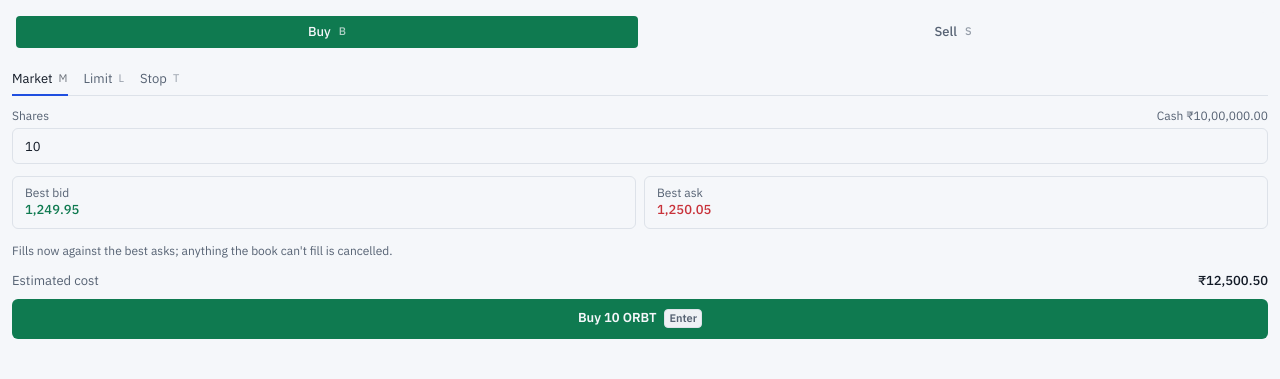
it: OrderTicket › clears the last order's outcome when the side changes
Click the button "Buy 10 ORBT Enter" at (640, 319), box [12, 299, 1268, 339]
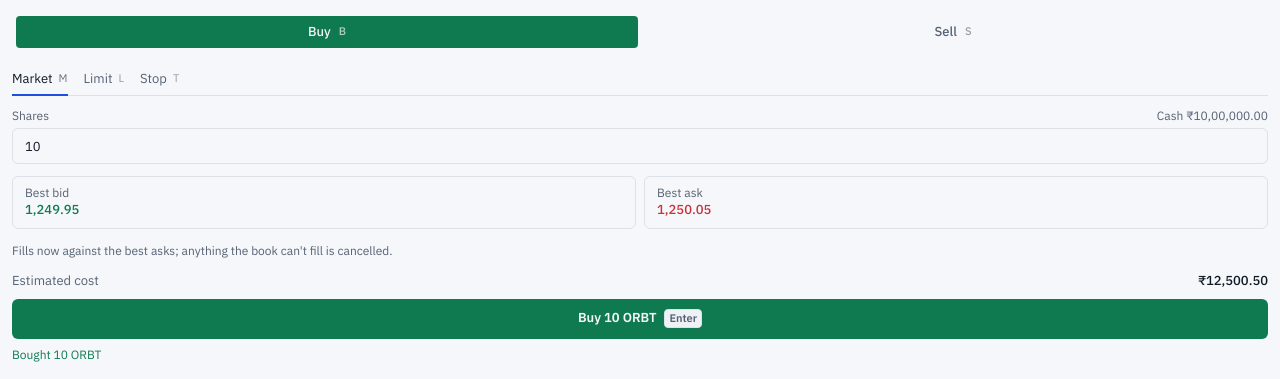
Result: the text "Bought 10 ORBT" is shown at [12, 347, 101, 362]
Type keys "s"
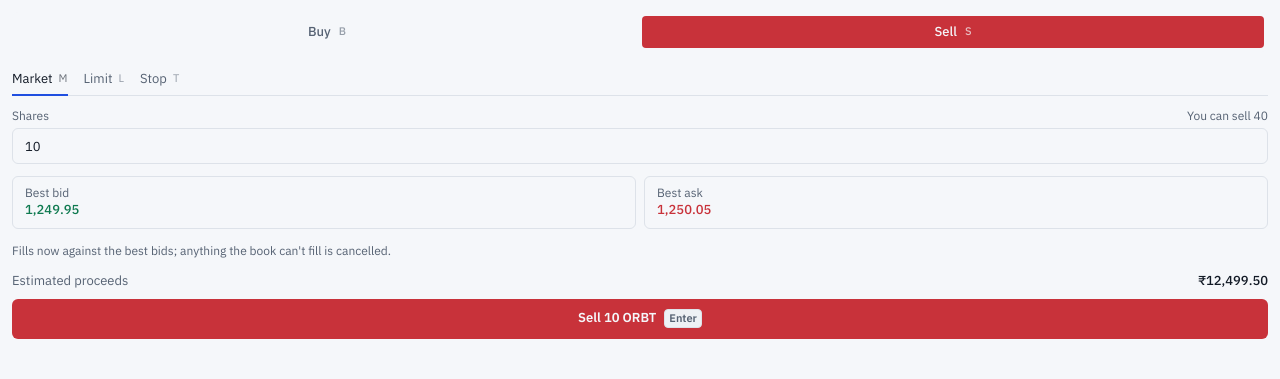
Result: the text "Bought 10 ORBT" is gone
